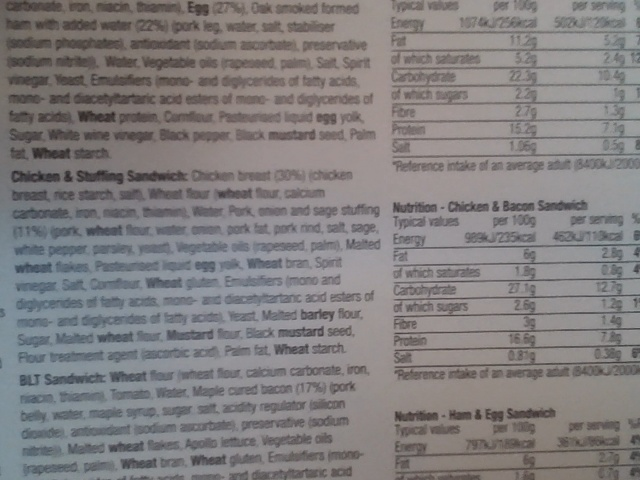wheat: (77, 108, 118, 126)
